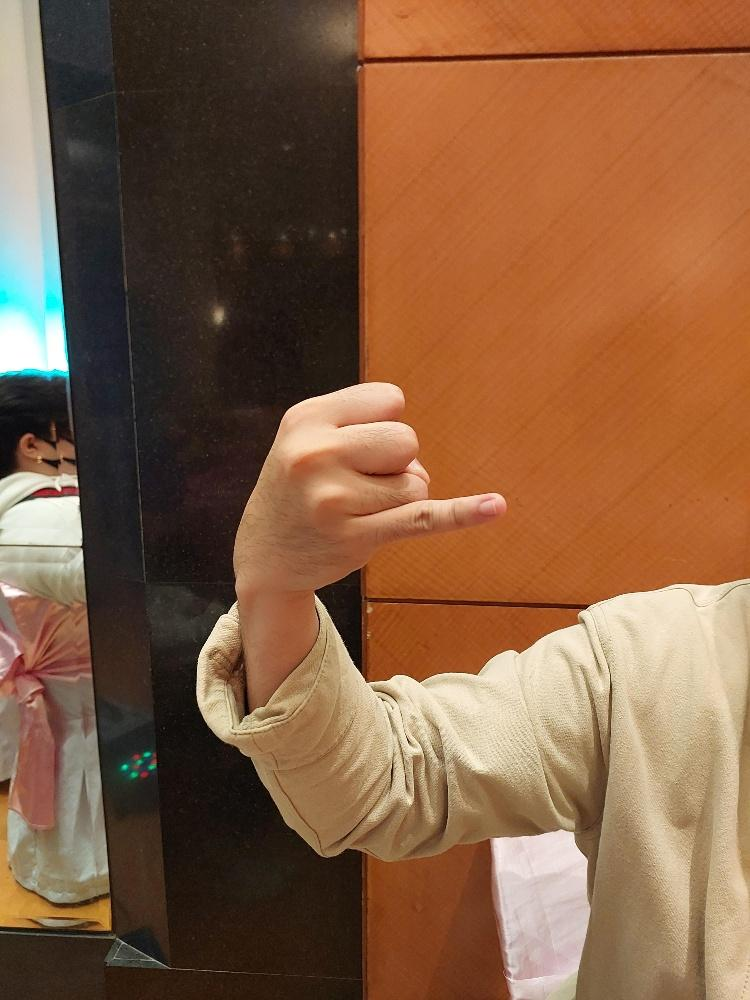j: (231, 377, 508, 593)
